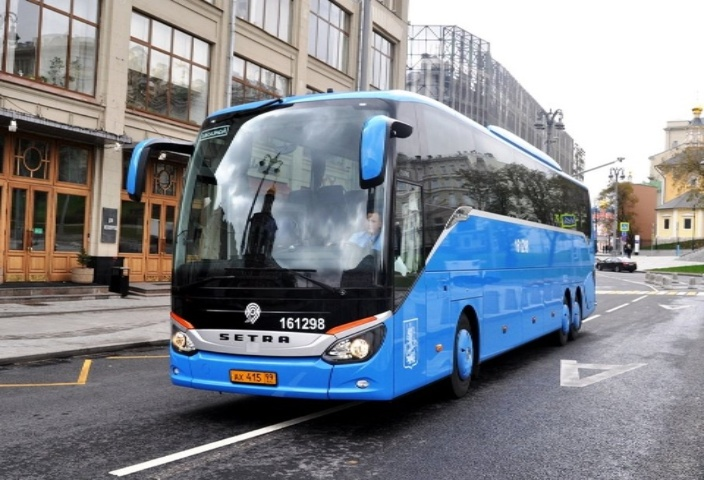bus: (108, 87, 611, 409)
